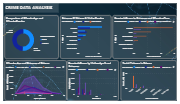

This screenshot's page, from the dashboard's own definition file:
{"tool":"powerbi","page":{"name":"Page 1","canvas":[1280,720],"ordinal":0},"visuals":[{"type":"textbox","box":[10.1,0,398.9,69.1],"z":0},{"type":"donutChart","title":"Comparison of OffenderAge and OffenderGender","fields":{"Category":["crime_data.Offender_Gender"],"Y":["crime_data.Offender_Age"]},"box":[9.9,89.3,398.3,320.3],"z":1000},{"type":"areaChart","title":"Offender Age and Category of Crimes","fields":{"Category":["crime_data.Offender_Age (bins) 2"],"Y":["crime_data.Category"],"Series":["crime_data.Category"]},"box":[10,421.9,459.1,297.5],"z":2000},{"type":"clusteredBarChart","fields":{"Category":["crime_data.Category"],"Y":["crime_data.Count_of_Cases"],"Series":["crime_data.Offender_Race"]},"box":[806.6,88.7,473.4,320.4],"z":3000},{"type":"clusteredBarChart","title":"Category Of Crimes & Victim Gender","fields":{"Category":["crime_data.Category"],"Y":["crime_data.Count of Category total for Offender_Race"],"Series":["crime_data.Victim_Gender"]},"box":[420.5,88.7,376.1,320.4],"z":4000},{"type":"clusteredColumnChart","title":"Racial Patterns In Crimes","fields":{"Category":["crime_data.Offender_Race"],"Y":["crime_data.Count_of_Cases"],"Series":["crime_data.Victim_Race"]},"box":[866.7,421.9,413.3,297.5],"z":5000},{"type":"clusteredColumnChart","fields":{"Series":["crime_data.Category"],"Y":["crime_data.Count_of_Cases"],"Category":["crime_data.Victim_Age 3"]},"box":[469.1,421.9,383.3,297.5],"z":6000}]}

Visuals, with their boxes on the page's 1280x720 design canvas (x1, y1, x2, y2). These are canvas units, not pixel positions in the 180x104 screenshot, which may show the page scaled, cropped or inside an application window:
textbox: (10, 0, 409, 69)
"Comparison of OffenderAge and OffenderGender" donutChart: (10, 89, 408, 410)
"Offender Age and Category of Crimes" areaChart: (10, 422, 469, 719)
clusteredBarChart - crime_data.Category x crime_data.Count_of_Cases: (807, 89, 1280, 409)
"Category Of Crimes & Victim Gender" clusteredBarChart: (420, 89, 797, 409)
"Racial Patterns In Crimes" clusteredColumnChart: (867, 422, 1280, 719)
clusteredColumnChart - crime_data.Category x crime_data.Count_of_Cases: (469, 422, 852, 719)
